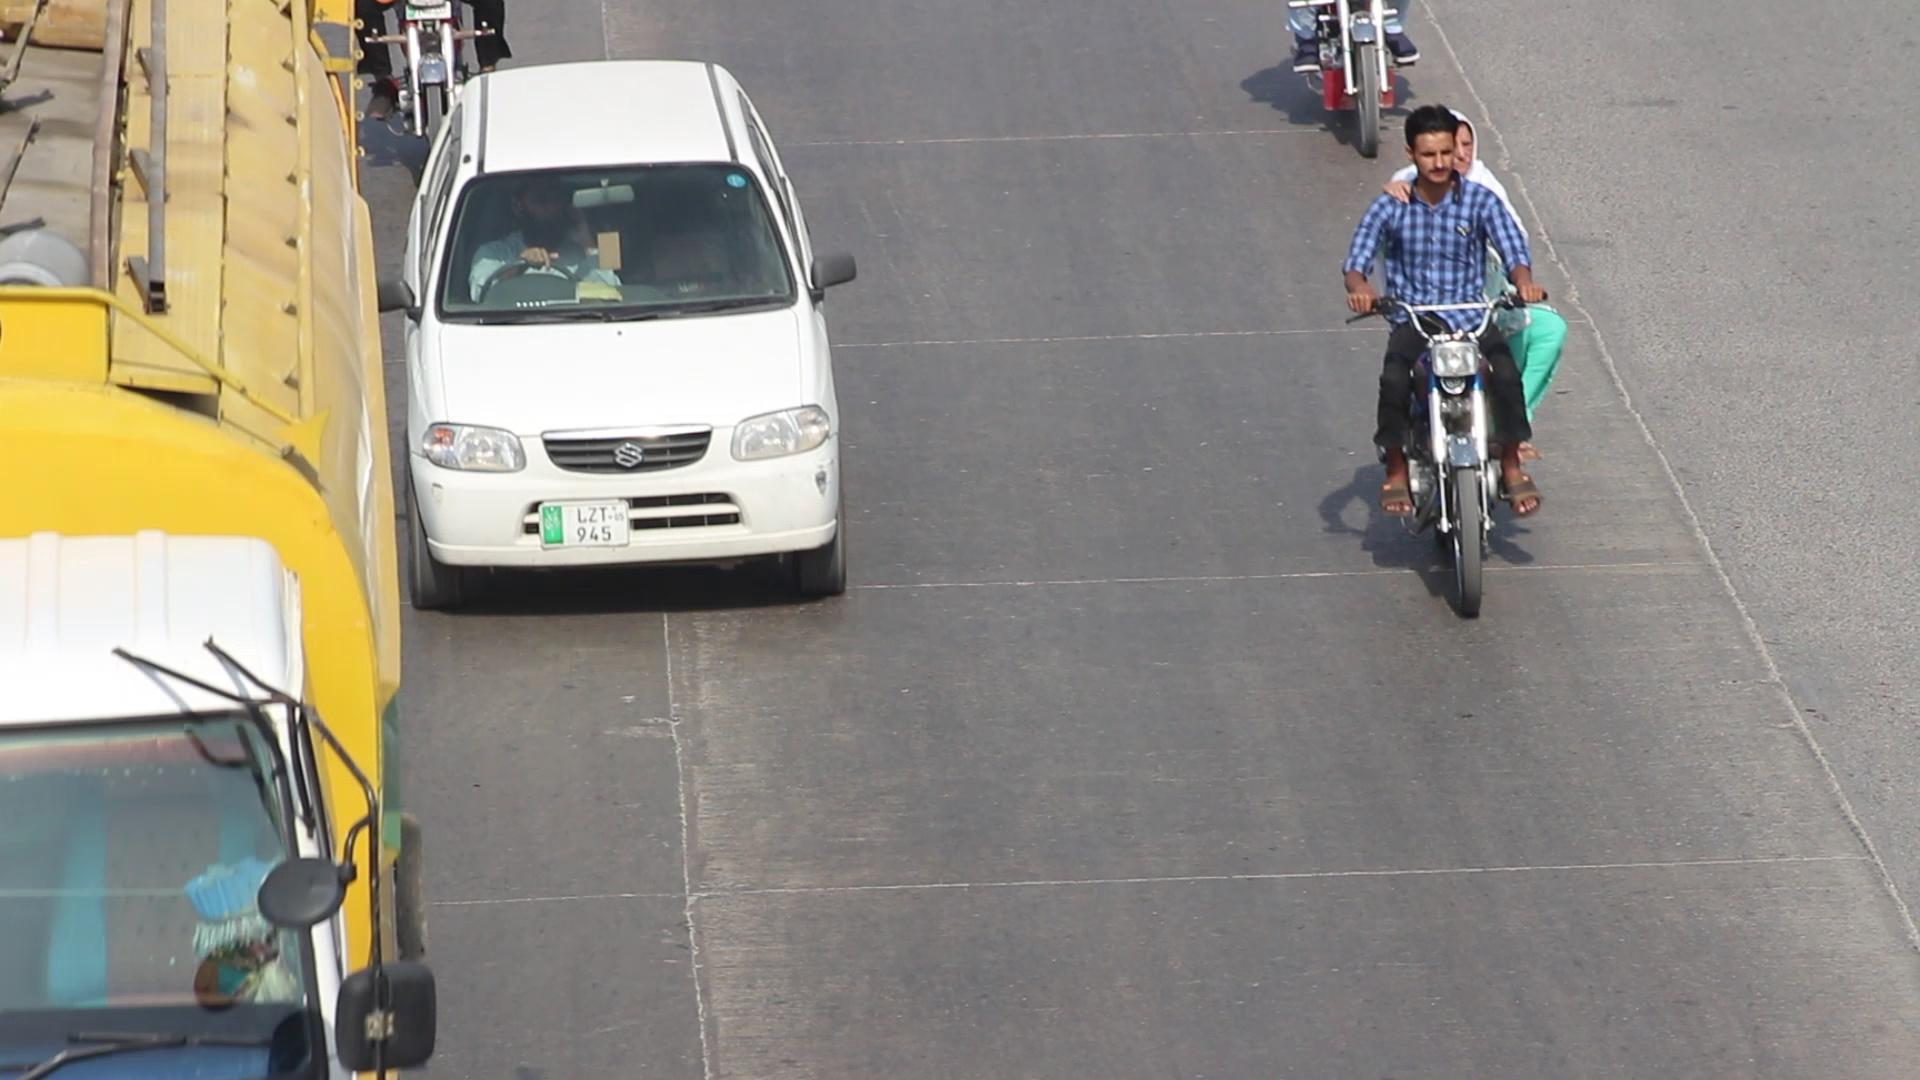windshield: (427, 157, 811, 336)
